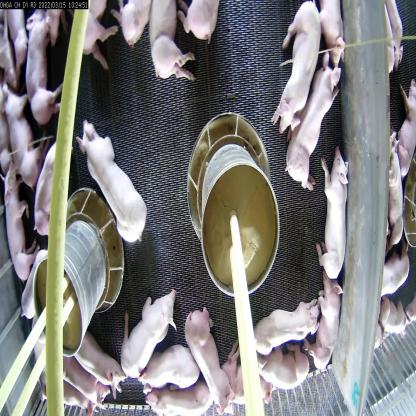Pig: (285, 53, 348, 193), (82, 122, 144, 245), (268, 0, 324, 132), (20, 5, 69, 132), (182, 310, 236, 415), (25, 132, 75, 236), (313, 151, 353, 280), (121, 286, 175, 380), (247, 298, 318, 366), (2, 91, 46, 196), (141, 0, 192, 87), (245, 342, 312, 408), (308, 274, 346, 385), (0, 160, 32, 284), (142, 333, 196, 392), (70, 327, 122, 386), (145, 373, 214, 415)
